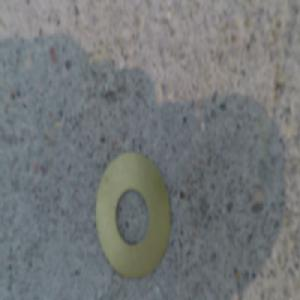Washer: (95, 150, 172, 277)
